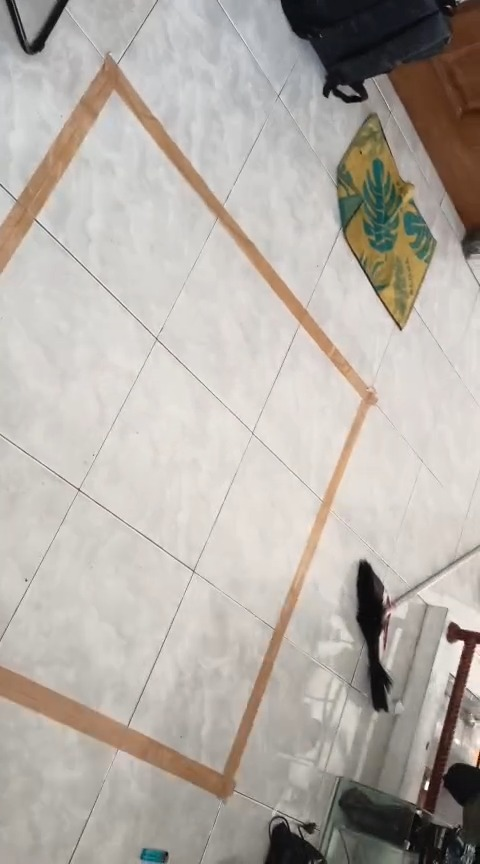floor marking: (0, 58, 375, 798)
